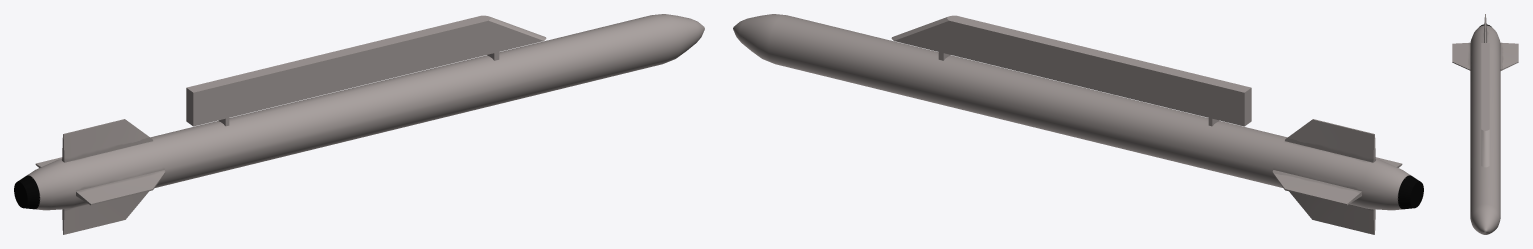
The model's file is smoke pod with pylon.glb.
3 renders of one model, left to right at view 1: azimuth 30°, elevation 25°; view 2: azimuth 150°, elevation 25°; view 3: azimuth 270°, elevation 25°, orthographic. The views are drawn at different scales.
Visible parts, largest first — view 1: Cylinder; view 2: Cylinder; view 3: Cylinder.
Part boxes in pixels (x1,y1,x2,y2): Cylinder: (14, 14, 704, 234); Cylinder: (733, 14, 1423, 234); Cylinder: (1452, 14, 1518, 234).
Size of the model in its own units: 2.6 by 0.4139 by 0.3656.
1 material, 1 textured.
